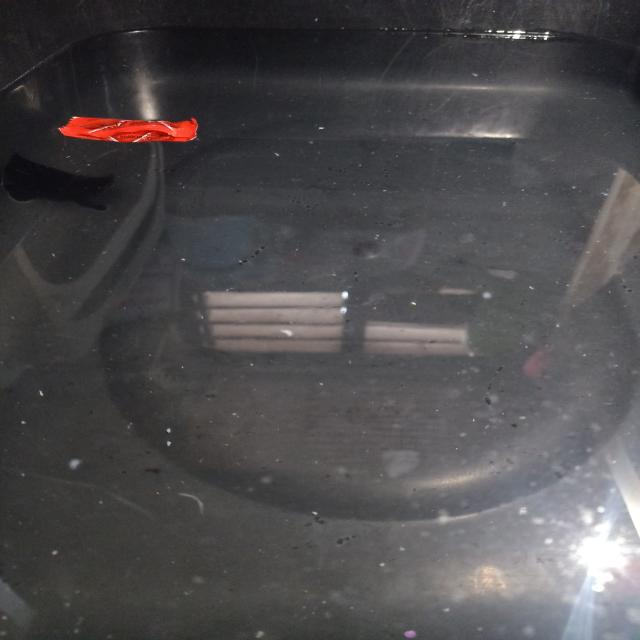Plastic Wrapper: (58, 117, 198, 143)
